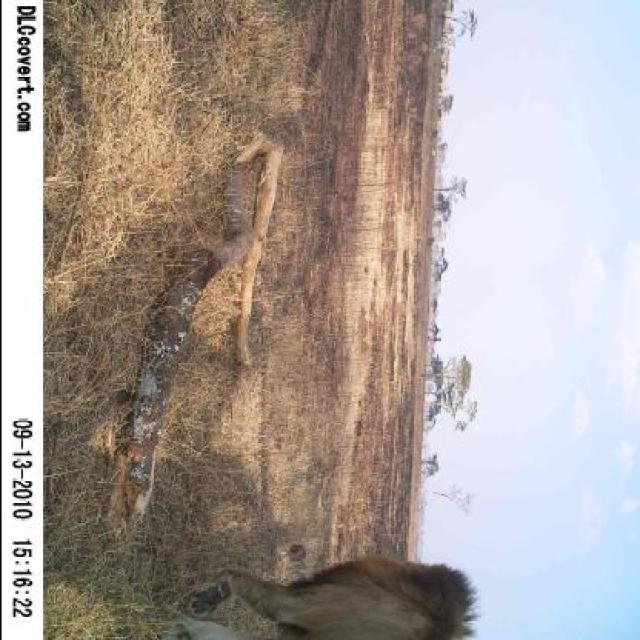Lion: (115, 502, 512, 638)
